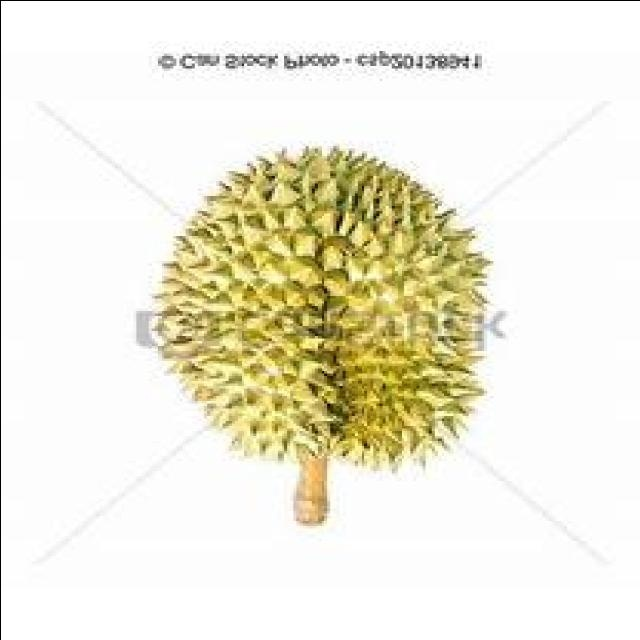agrume: (123, 127, 511, 482)
